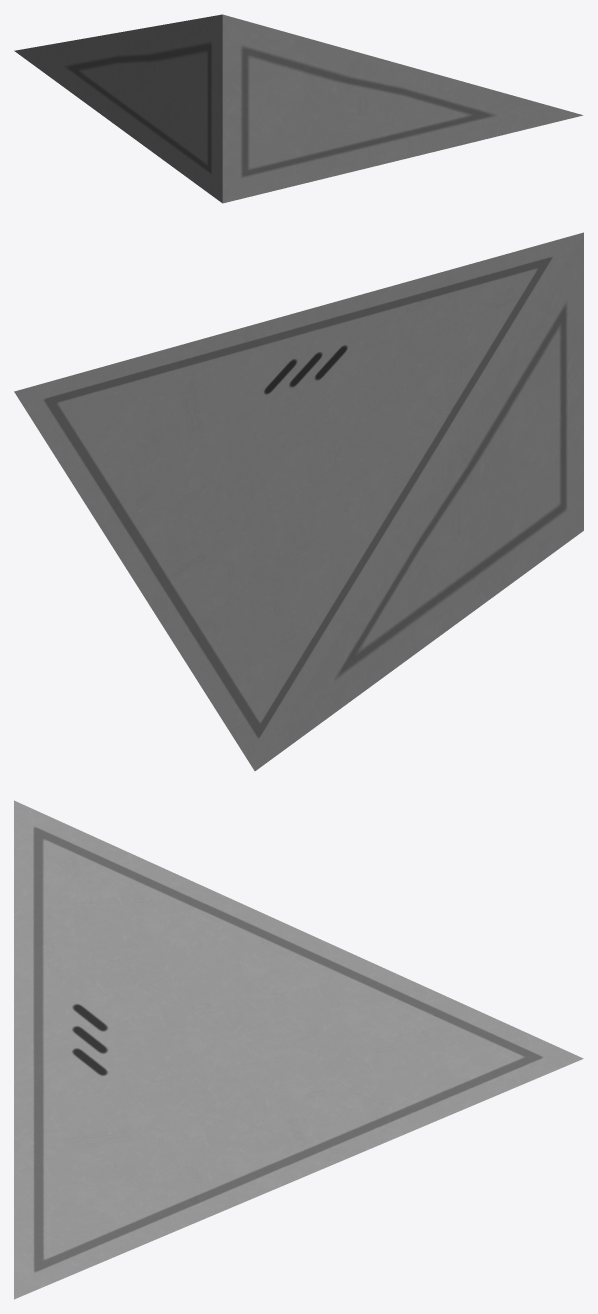
File: LargeBlockArmorSlopedCornerTip.glb
The picture shows the model from 3 angles, top to bottom: view 1: azimuth 30°, elevation 25°; view 2: azimuth 150°, elevation 25°; view 3: azimuth 270°, elevation 25°; orthographic projection. The views are drawn at different scales.
Visible parts, largest first — view 1: LargeBlockArmorSlopedCornerTip_part2; view 2: LargeBlockArmorSlopedCornerTip_part1, LargeBlockArmorSlopedCornerTip_part2; view 3: LargeBlockArmorSlopedCornerTip_part1.
Part boxes in pixels (x1,y1,x2,y2): LargeBlockArmorSlopedCornerTip_part2: (14, 14, 583, 203); LargeBlockArmorSlopedCornerTip_part1: (14, 232, 583, 770); LargeBlockArmorSlopedCornerTip_part2: (255, 233, 583, 770); LargeBlockArmorSlopedCornerTip_part1: (14, 800, 583, 1299).
Size of the model in its own units: 2.5 by 1.25 by 2.5.
2 materials, 2 textured.
